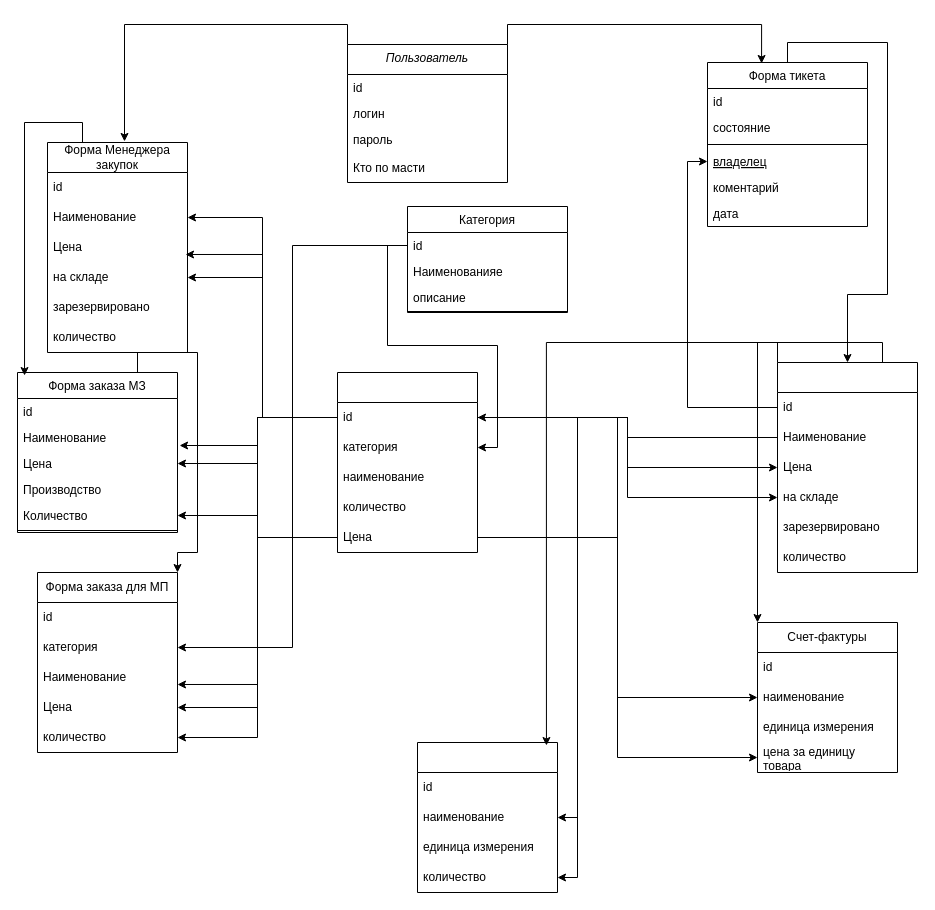
This 935x910 diagram has some shape labels left out. The box of each missing label's shape, as (x1, y1, x2, y2) in pixels:
Отчет: (416, 742, 558, 892)
Продукция: (336, 372, 478, 552)
Форма Менеджера продаж: (776, 362, 918, 572)
